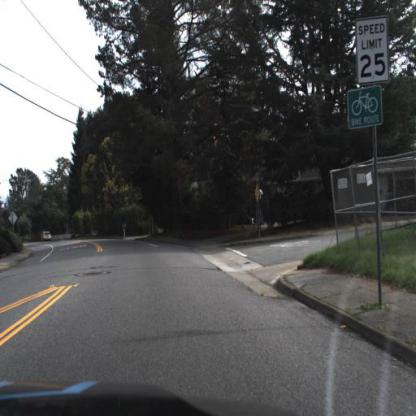car: (41, 227, 53, 247), (41, 230, 54, 246)
